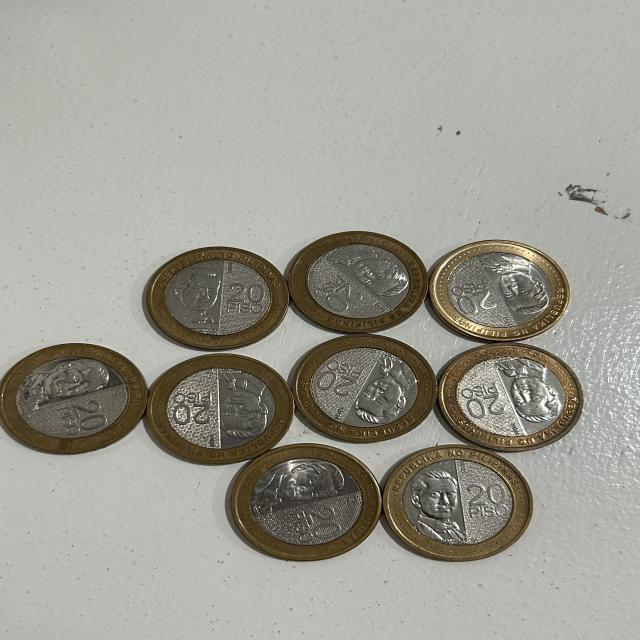20_New_Front: (160, 387, 220, 438), (453, 376, 511, 427), (284, 506, 351, 548), (448, 278, 502, 329), (459, 477, 511, 529), (312, 355, 369, 402), (52, 398, 117, 438), (313, 275, 364, 317), (219, 275, 265, 320)
